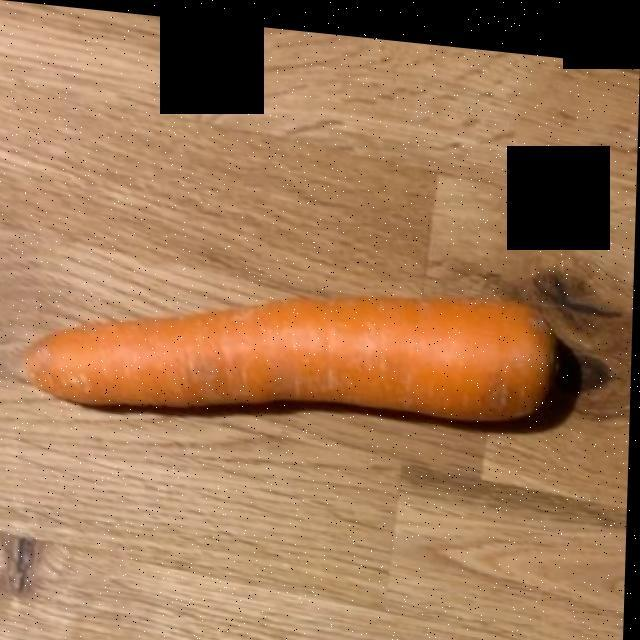carrot: (32, 286, 548, 419)
